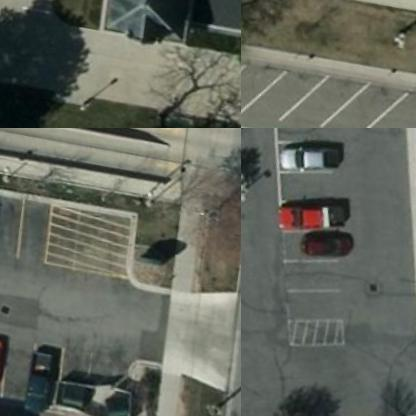car: (267, 128, 348, 184), (272, 187, 348, 238), (11, 344, 62, 414), (294, 225, 351, 257)
